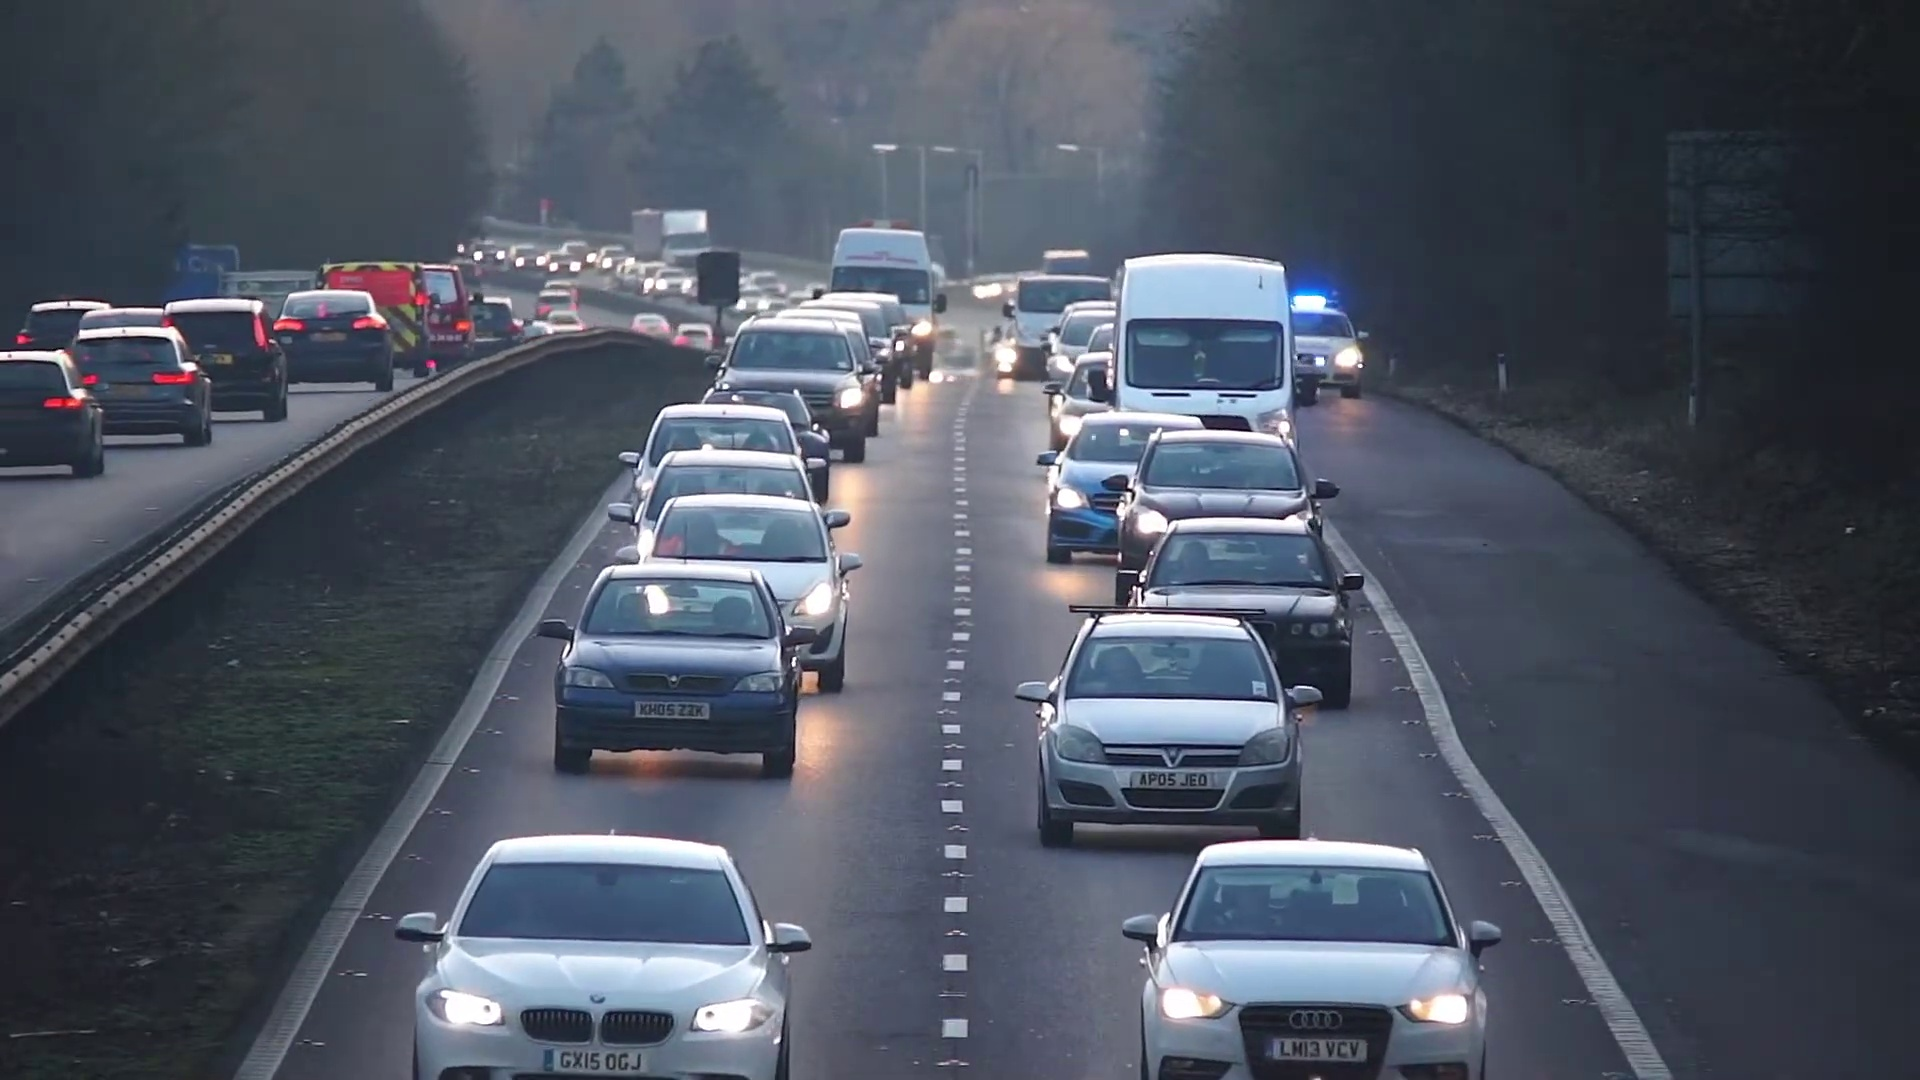license_plate: (547, 1048, 647, 1074), (1263, 1038, 1367, 1061), (1128, 768, 1215, 790), (630, 699, 711, 721)
